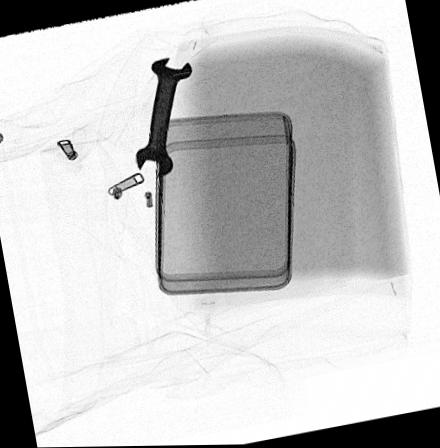Wrench: (135, 56, 193, 178)
